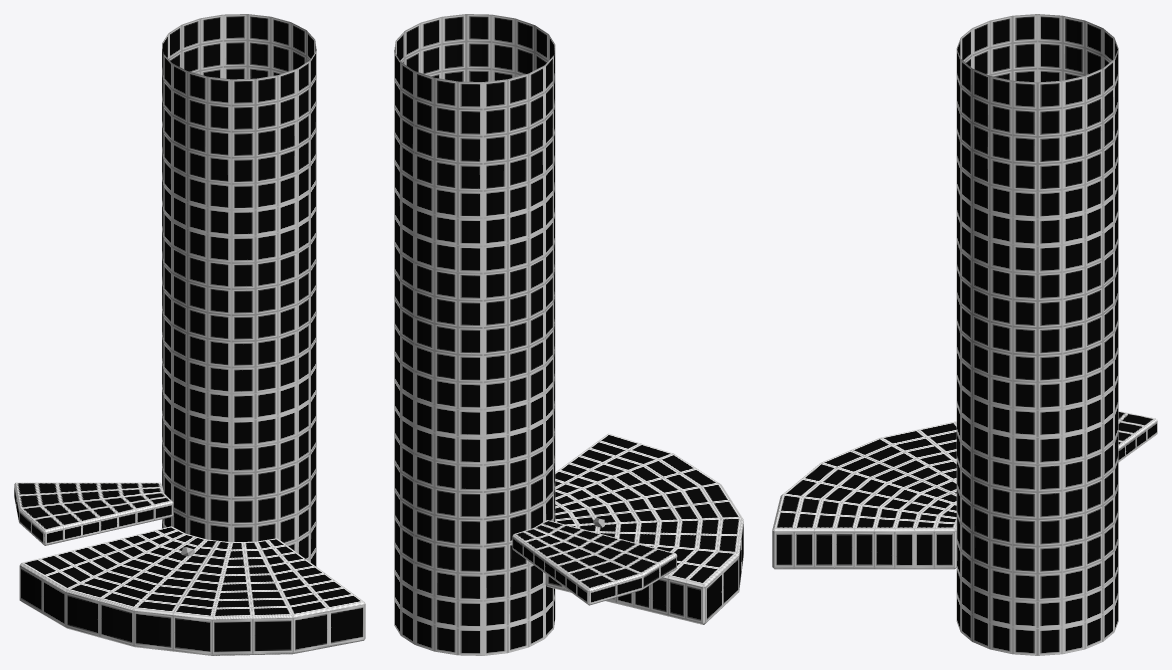
The model's file is Tron.fbx.
The picture shows the model from 3 angles, left to right: view 1: azimuth 30°, elevation 25°; view 2: azimuth 150°, elevation 25°; view 3: azimuth 270°, elevation 25°; orthographic projection. The views are drawn at different scales.
Parts seen in each view (by area): view 1: TronSpire, TronQuarter, TronStep; view 2: TronSpire, TronQuarter, TronStep; view 3: TronSpire, TronQuarter, TronStep.
Boxes of the visible parts, x1,y1,x2,y2 form: TronSpire: [162, 14, 316, 566]; TronQuarter: [19, 526, 365, 655]; TronStep: [14, 482, 173, 545]; TronSpire: [394, 14, 555, 655]; TronQuarter: [545, 433, 743, 624]; TronStep: [512, 520, 677, 605]; TronSpire: [956, 14, 1118, 655]; TronQuarter: [772, 421, 956, 569]; TronStep: [1118, 411, 1157, 461].
Size of the model in its own units: 471 by 861 by 525.
Materials: 2 (1 with a texture image).
